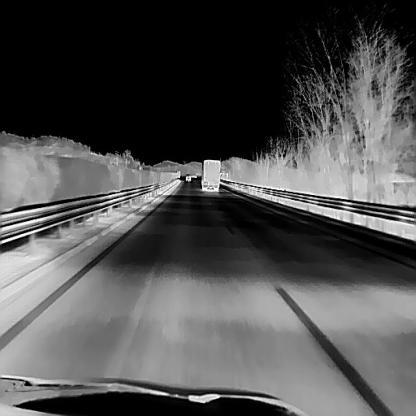car: (201, 158, 220, 192), (185, 172, 191, 180)
